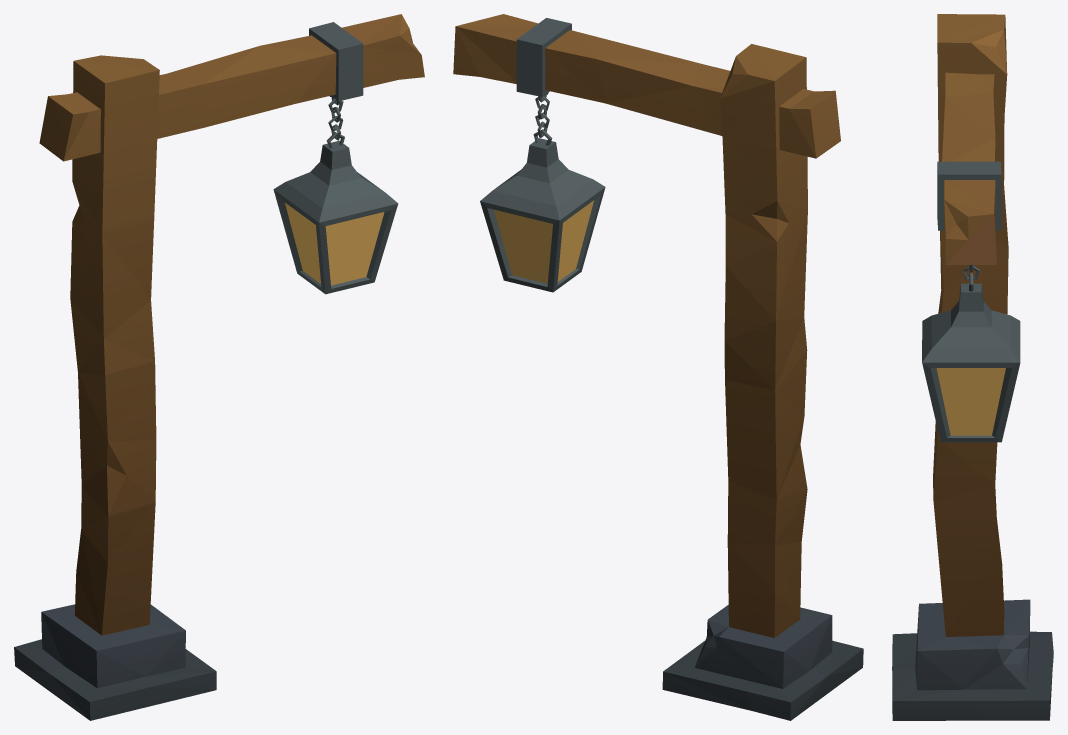
Rendered from Lantern_02.fbx.
3 renders of one model, left to right at view 1: azimuth 30°, elevation 25°; view 2: azimuth 150°, elevation 25°; view 3: azimuth 270°, elevation 25°, orthographic. The views are drawn at different scales.
Parts seen in each view (by area): view 1: Lantern_02; view 2: Lantern_02; view 3: Lantern_02.
Part boxes in pixels (x1,y1,x2,y2): Lantern_02: (14,14,424,720); Lantern_02: (453,14,863,720); Lantern_02: (892,14,1053,720).
Size of the model in its own units: 151 by 244 by 54.26.
